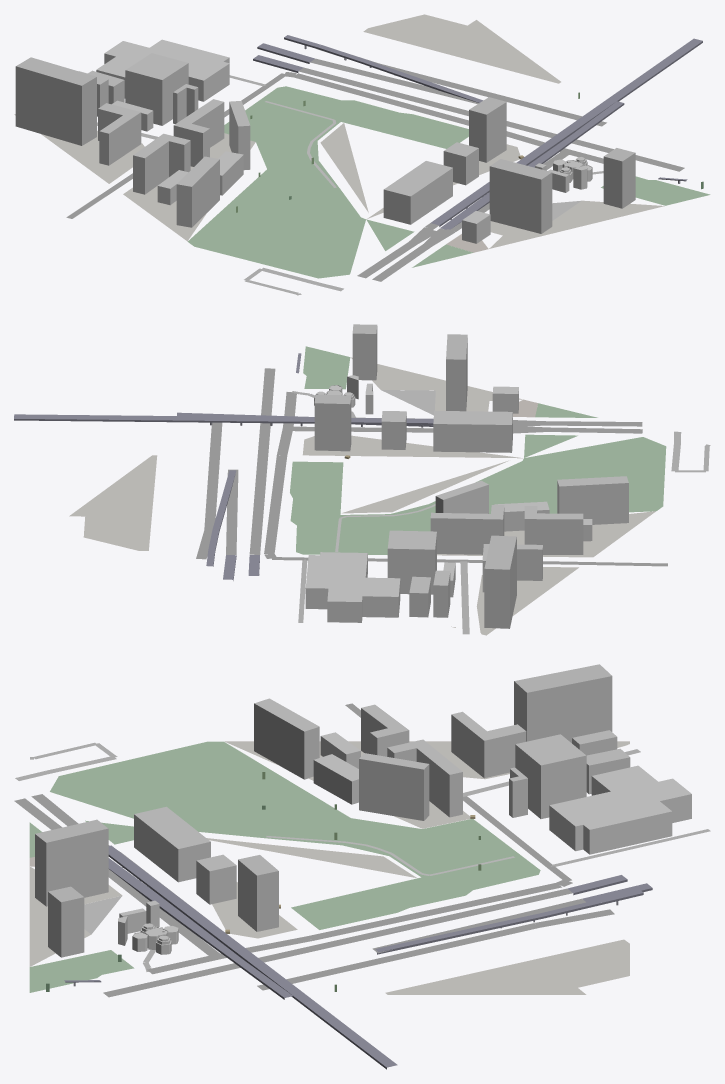
3 views of the same model, one above another, from view 1: azimuth 30°, elevation 25°; view 2: azimuth 150°, elevation 25°; view 3: azimuth 270°, elevation 25° (orthographic). The views are drawn at different scales.
Bounding box in the file's own units: 734 × 67.23 × 581.
